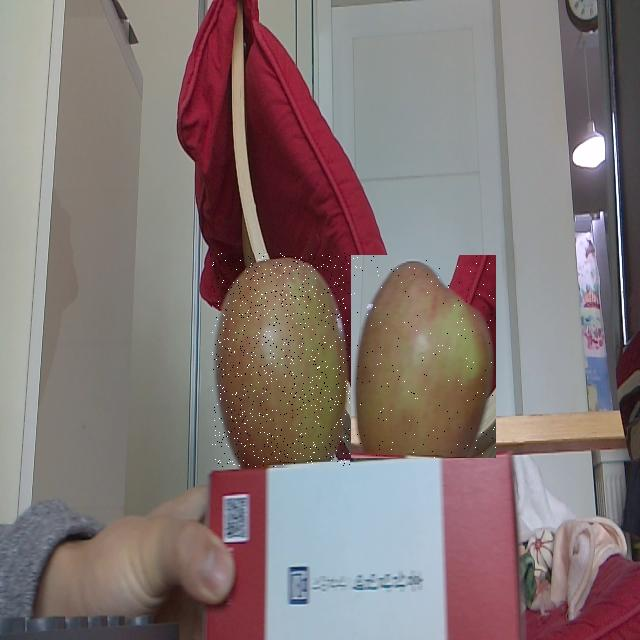apple: (212, 253, 350, 468), (351, 255, 496, 458)
